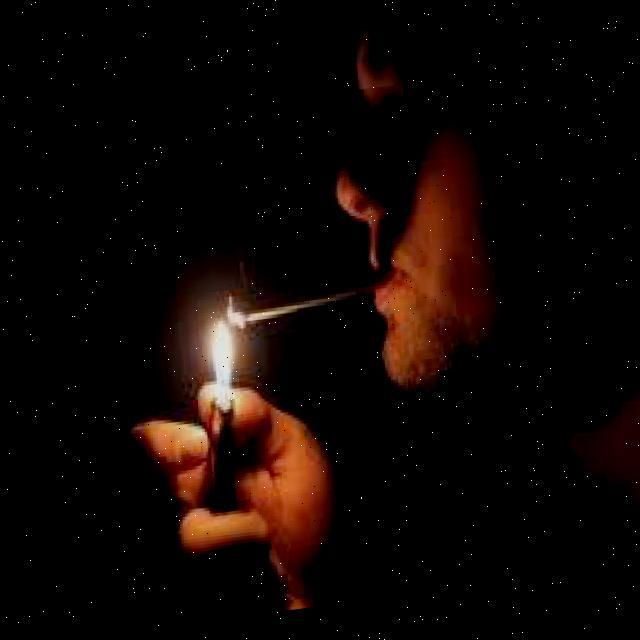Fire: (190, 311, 240, 410)
